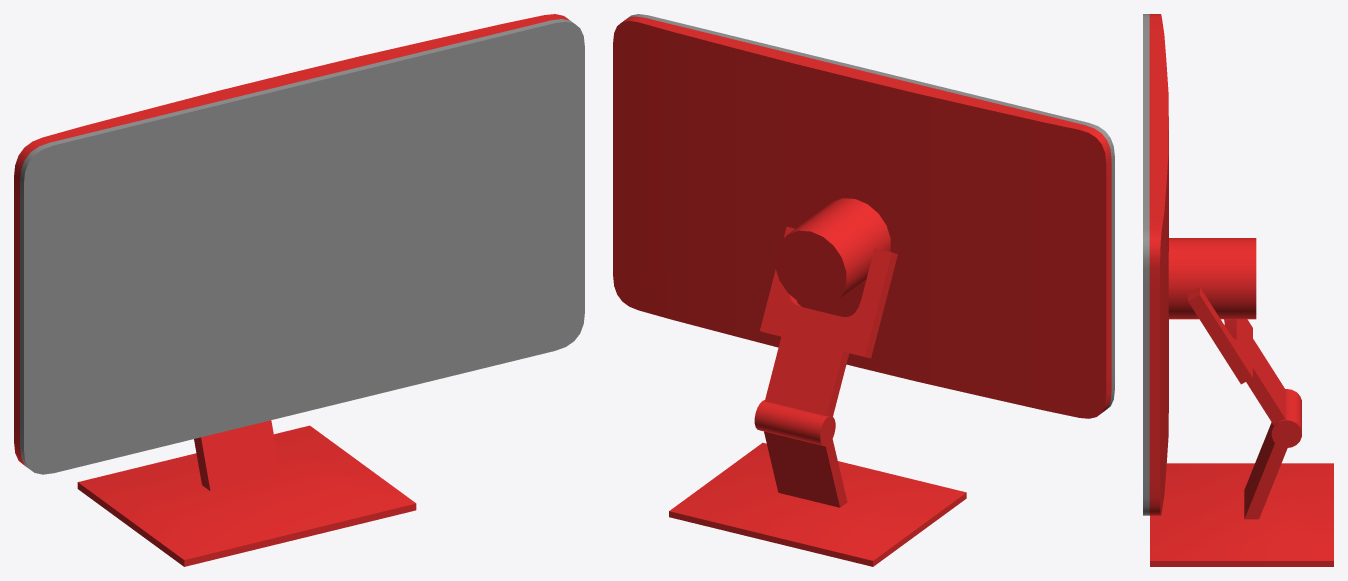
File: Monitor (Don't Use).FBX
3 views of the same model, side by side, from view 1: azimuth 30°, elevation 25°; view 2: azimuth 150°, elevation 25°; view 3: azimuth 270°, elevation 25° (orthographic). The views are drawn at different scales.
Parts seen in each view (by area): view 1: Monitor_Screen, Monitor_Stand, Monitor; view 2: Monitor, Monitor_Stand, Monitor_Screen; view 3: Monitor_Stand, Monitor, Monitor_Screen.
Boxes of the visible parts, bbox=[...] form: Monitor_Screen: bbox=[20, 19, 584, 474]; Monitor_Stand: bbox=[77, 420, 416, 566]; Monitor: bbox=[14, 14, 569, 467]; Monitor: bbox=[613, 16, 1111, 418]; Monitor_Stand: bbox=[669, 226, 966, 566]; Monitor_Screen: bbox=[628, 14, 1114, 411]; Monitor_Stand: bbox=[1150, 287, 1333, 566]; Monitor: bbox=[1149, 14, 1256, 515]; Monitor_Screen: bbox=[1143, 14, 1149, 515].
Bounding box in the file's own units: 34.68 × 27.01 × 11.84.
